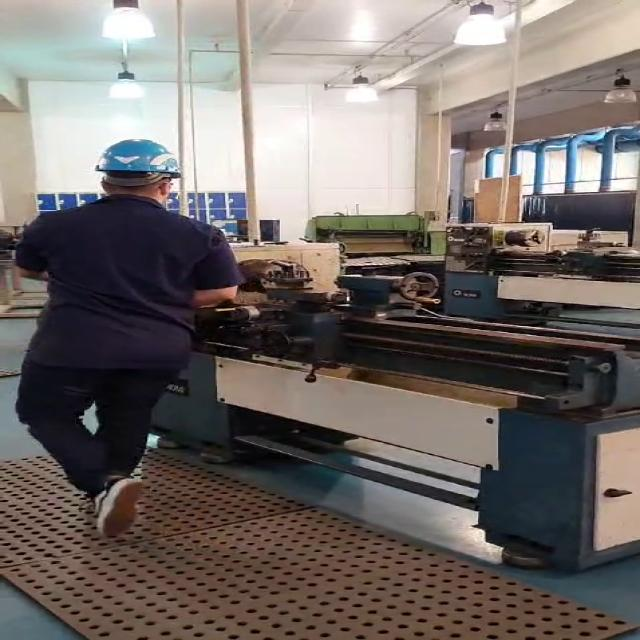oculos-epi: (156, 180, 180, 188)
